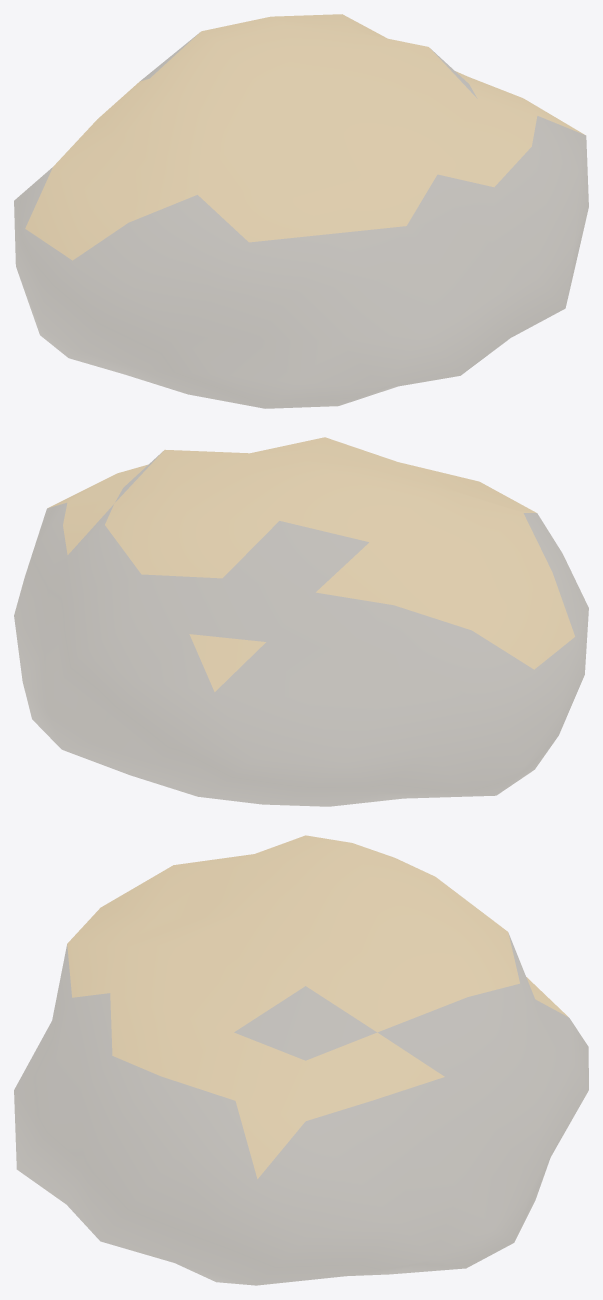
The model's file is Blender_MossRock_1.glb.
3 renders of one model, top to bottom at view 1: azimuth 30°, elevation 25°; view 2: azimuth 150°, elevation 25°; view 3: azimuth 270°, elevation 25°, orthographic. The views are drawn at different scales.
Visible parts, largest first — view 1: Blender_MossRock_1; view 2: Blender_MossRock_1; view 3: Blender_MossRock_1.
Part boxes in pixels (x1=…): Blender_MossRock_1: x1=14, y1=14, x2=588, y2=408; Blender_MossRock_1: x1=14, y1=437, x2=588, y2=806; Blender_MossRock_1: x1=14, y1=835, x2=588, y2=1285.
Size of the model in its own units: 2.14 by 1.07 by 1.83.
